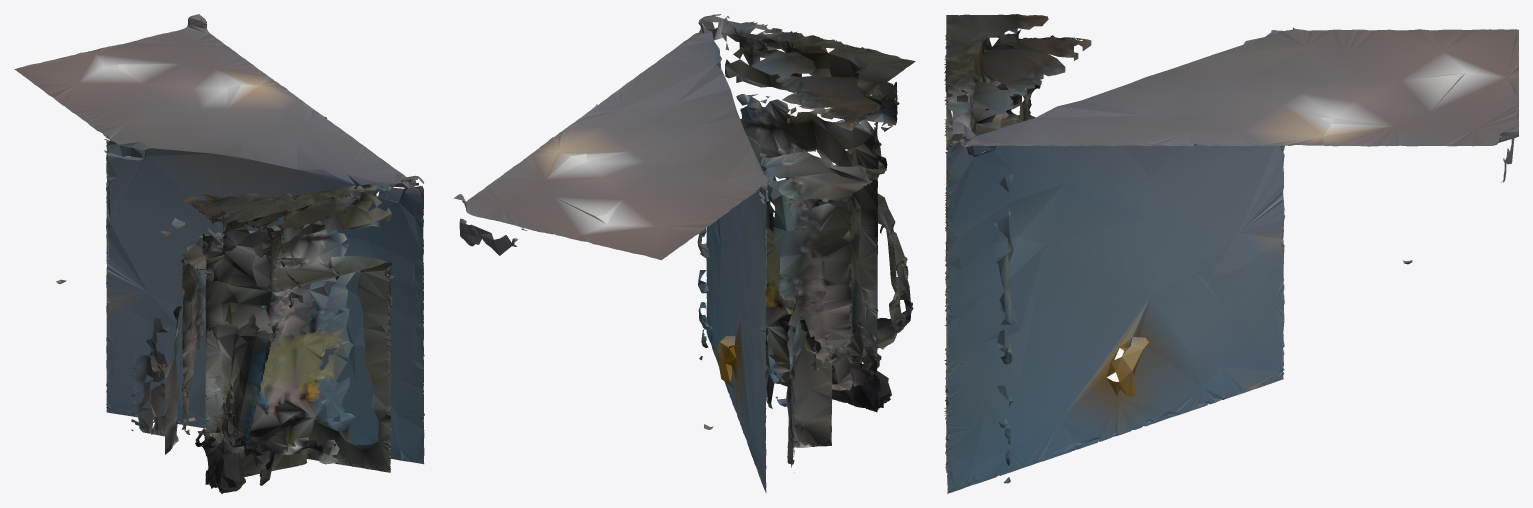
The model's file is coarse.glb.
3 renders of one model, left to right at view 1: azimuth 30°, elevation 25°; view 2: azimuth 150°, elevation 25°; view 3: azimuth 270°, elevation 25°, orthographic. The views are drawn at different scales.
Bounding box in the file's own units: 1.11 × 1.67 × 2.35.
